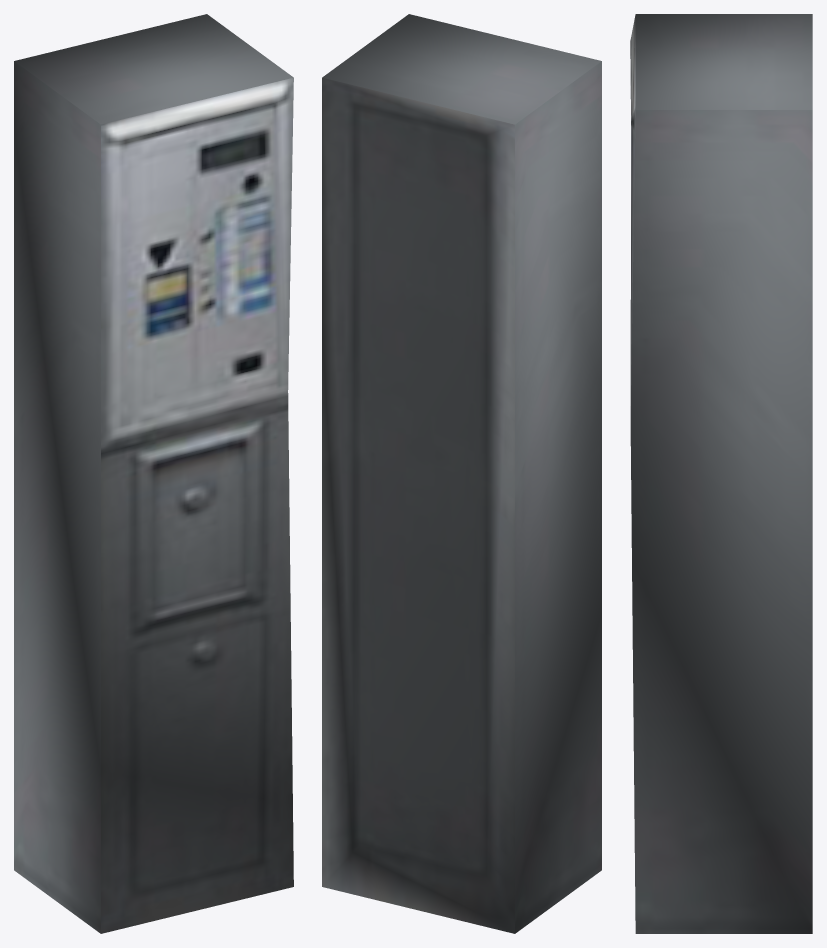
The model's file is Parquimetro.fbx.
3 renders of one model, left to right at view 1: azimuth 30°, elevation 25°; view 2: azimuth 150°, elevation 25°; view 3: azimuth 270°, elevation 25°, orthographic.
Visible parts, largest first — view 1: parko01; view 2: parko01; view 3: parko01.
Part boxes in pixels (box(x1,y1,x2,y2)): parko01: box(14, 14, 293, 933); parko01: box(322, 14, 601, 933); parko01: box(630, 14, 812, 933).
Size of the model in its own units: 37.42 by 150 by 30.07.
1 material, 1 textured.
